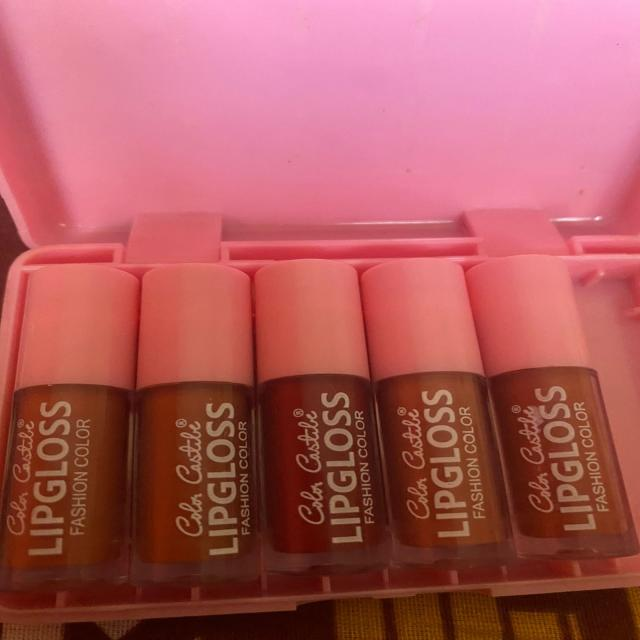lip gloss: (262, 252, 500, 576), (498, 258, 640, 580), (136, 258, 258, 596), (22, 255, 134, 585)
